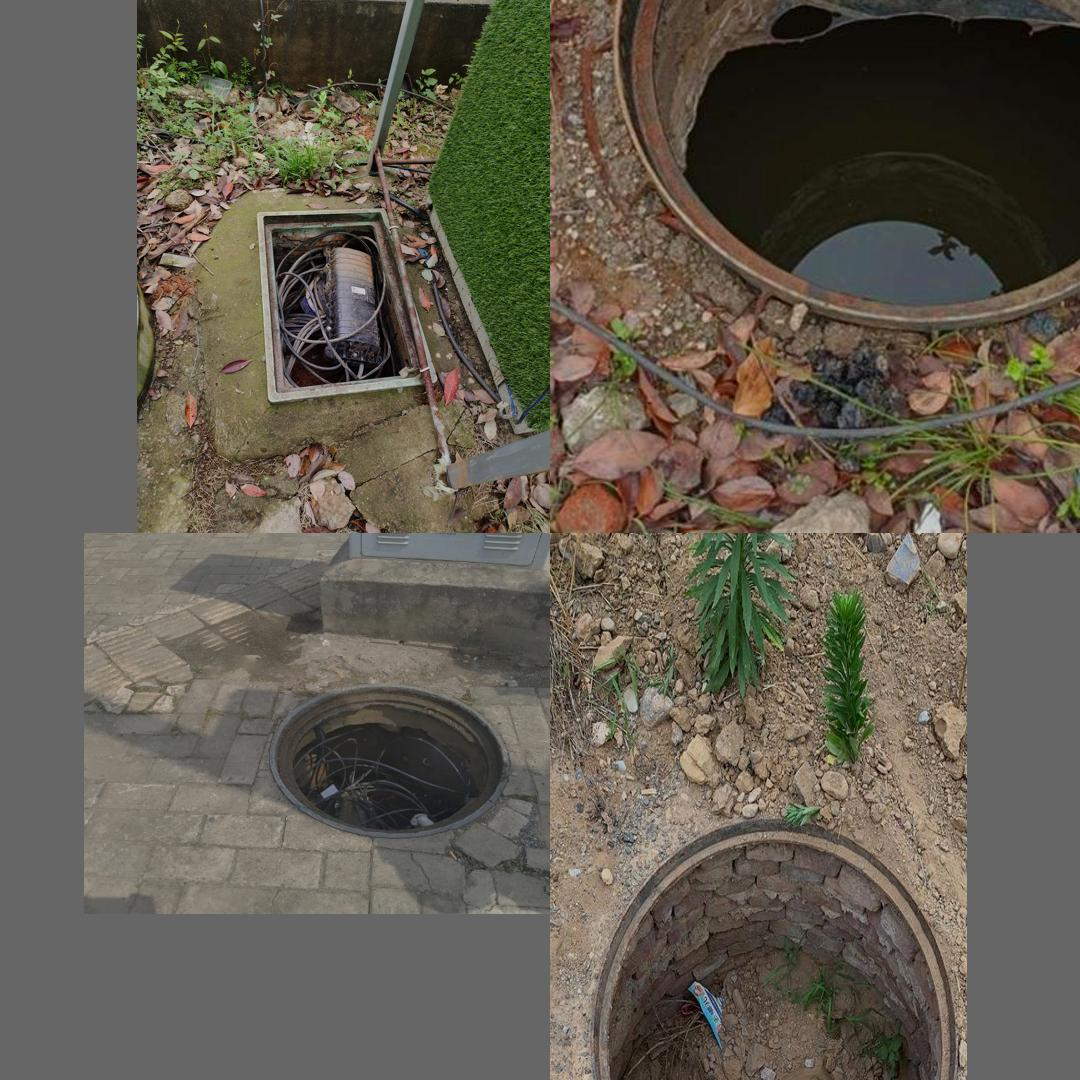lose: (603, 0, 1080, 336), (578, 804, 954, 1080), (268, 684, 511, 839), (257, 206, 437, 405)
